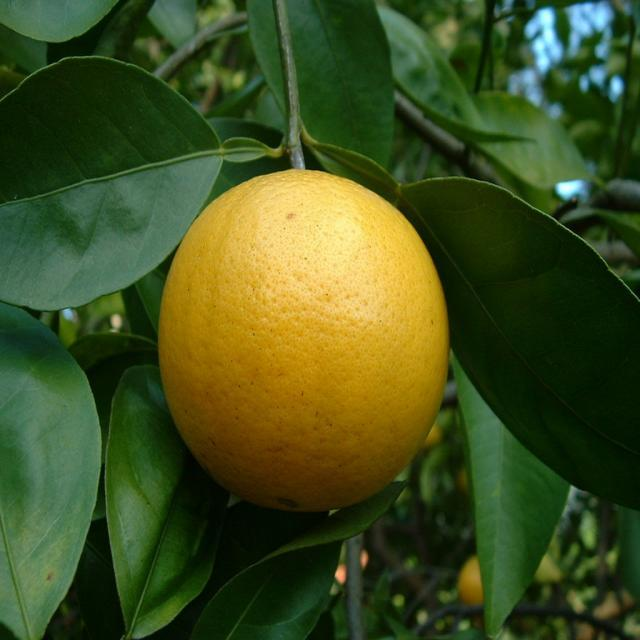Lemon: (159, 164, 450, 518)
